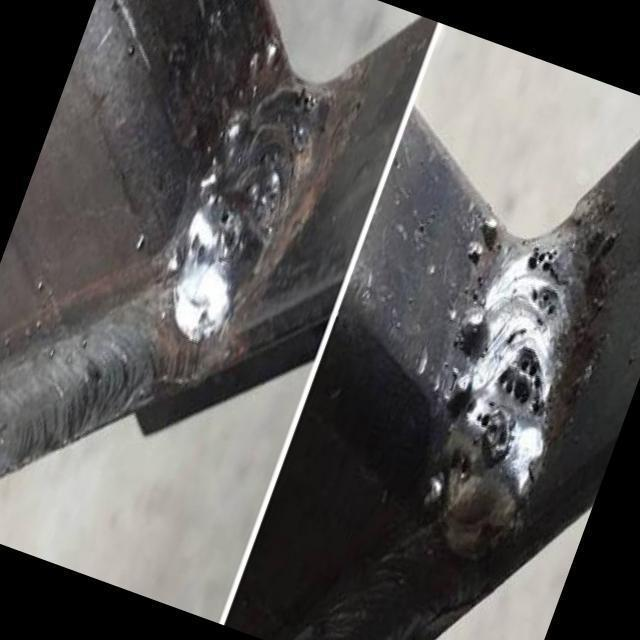defect: (495, 340, 549, 422), (523, 242, 563, 322), (475, 400, 518, 465), (216, 205, 240, 264), (188, 227, 208, 270)
